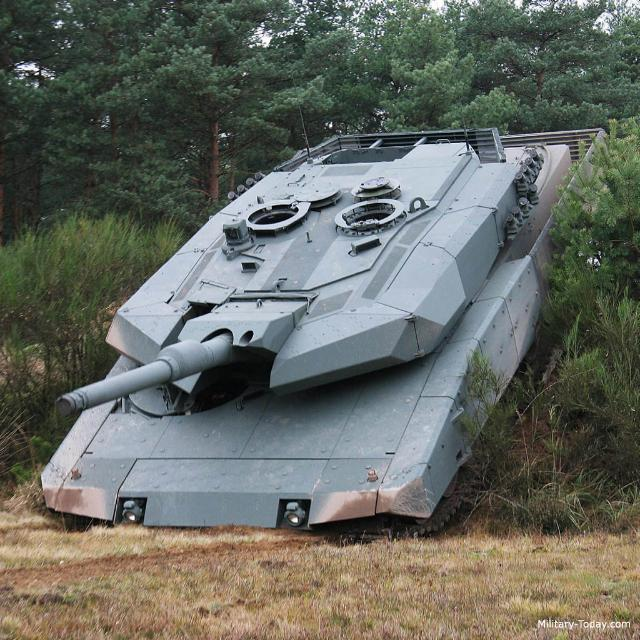tank: (34, 128, 602, 528)
